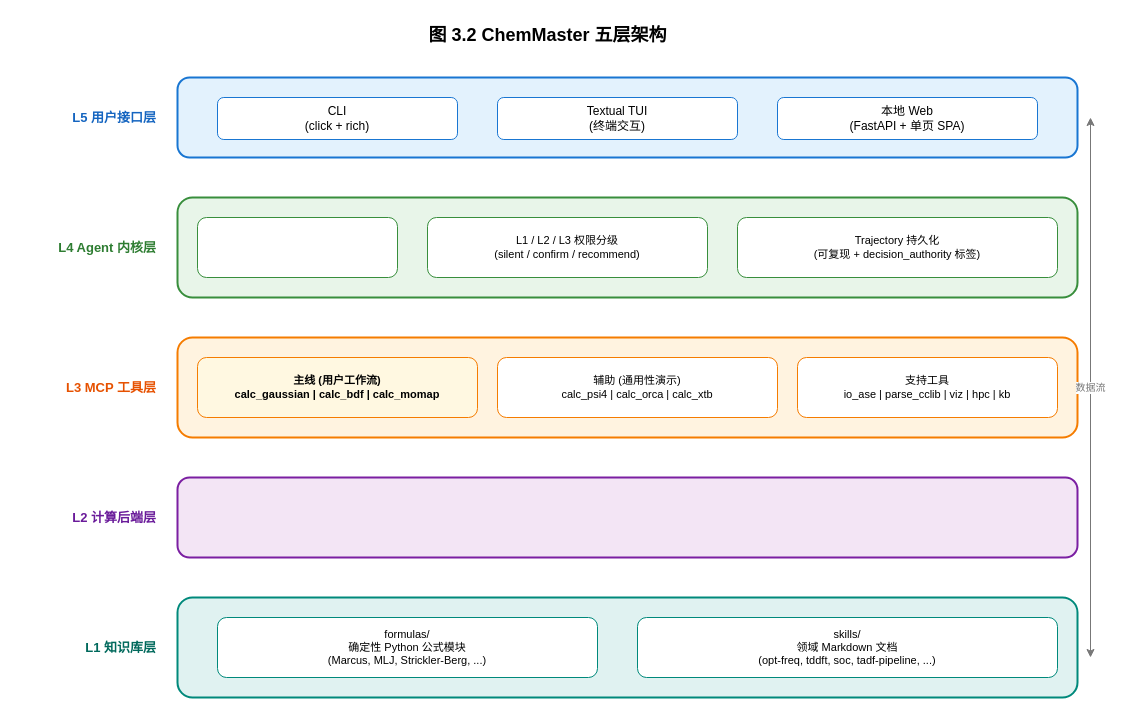
This 1122x715 diagram has some shape labels left out. The shapes that lost their labels are listed below. From the top down, each one's centre as x and y in pixels, then its label:
At [297,247]: "Tool-use 循环 (Anthropic SDK)".
At [627,517]: "Gaussian BDF MOMAP psi4 ORCA xTB ASE RDKit cclib".
